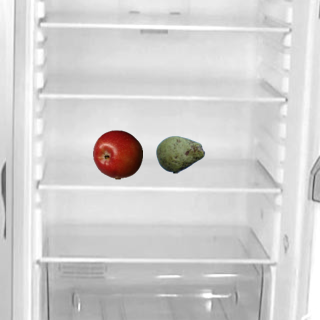Apple Braeburn: (92, 129, 142, 179)
Pear Stone: (155, 129, 205, 179)
